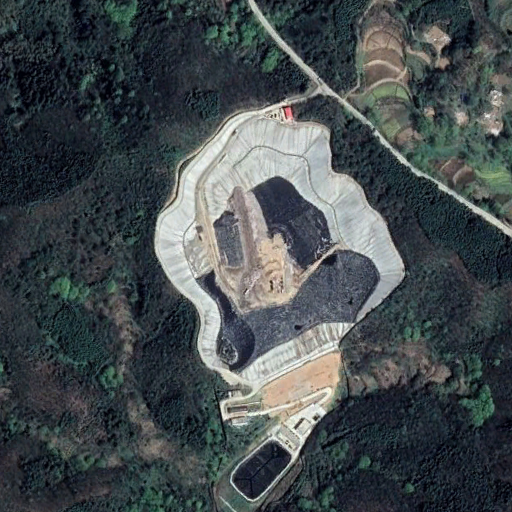lf: (155, 111, 399, 382)
